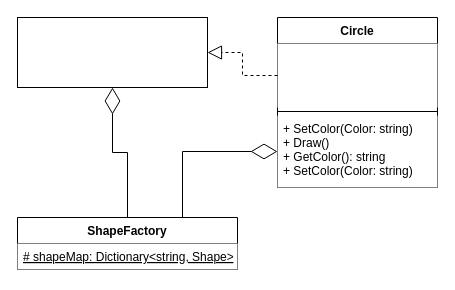
Image size: 455x290. Some labels were removed from this diagram. The centre of each missing label's shape, as x and y in pixels:
"# XCor: int = 10 # YCor: int = 20 # Radius: int = 30 - Color: string" belongs at (357,75).
"<<Interface>> IShape + Draw()" belongs at (112,52).
